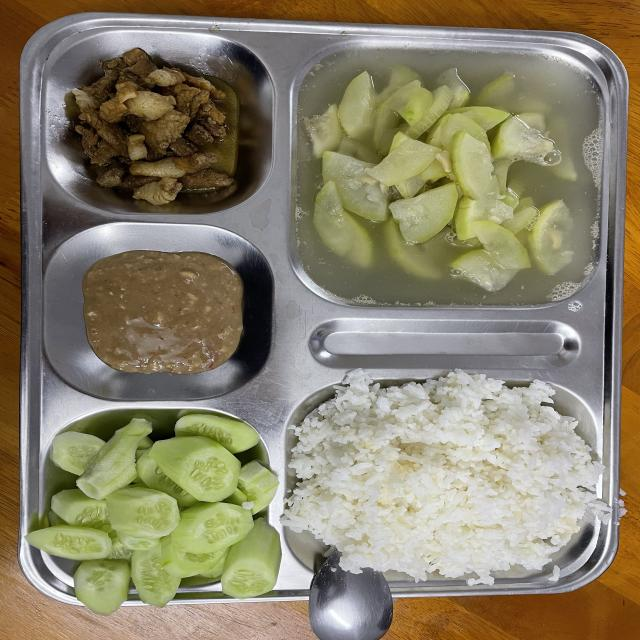canh bau: (291, 47, 603, 307)
com: (282, 369, 601, 585)
dua leo: (26, 414, 281, 614)
kho tieu: (71, 48, 234, 206)
